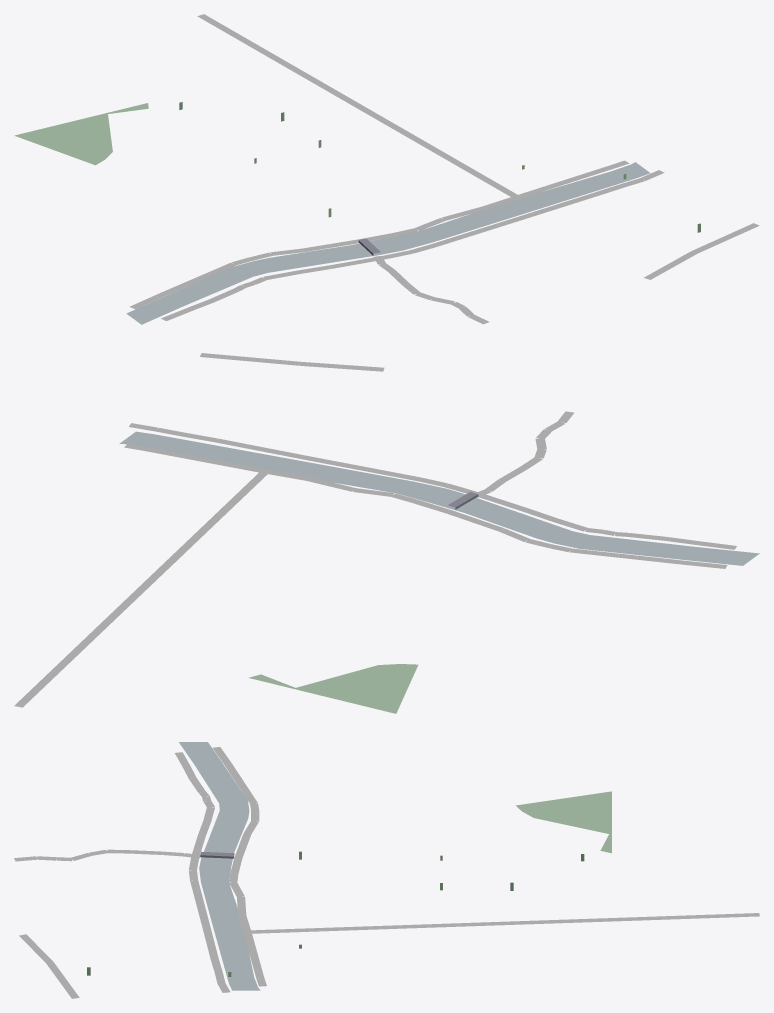
3 views of the same model, one above another, from view 1: azimuth 30°, elevation 25°; view 2: azimuth 150°, elevation 25°; view 3: azimuth 270°, elevation 25° (orthographic). The views are drawn at different scales.
Size of the model in its own units: 523 by 13.39 by 634.
